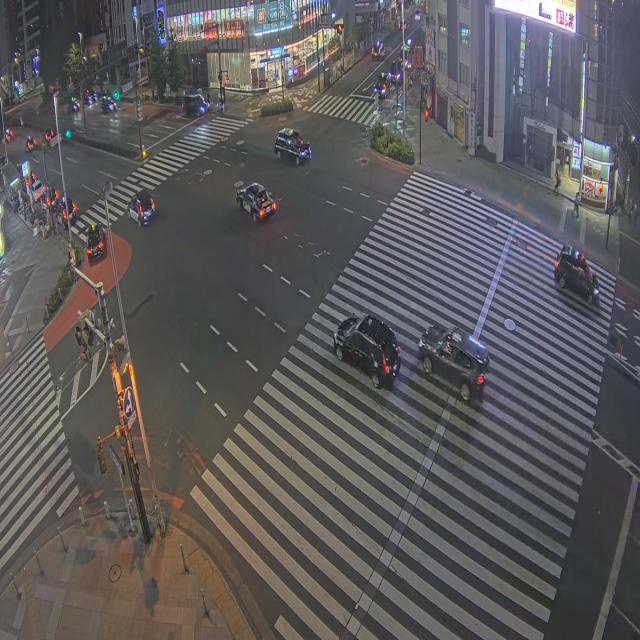car: (419, 325, 489, 404), (334, 315, 400, 388), (555, 246, 599, 305), (237, 183, 276, 221), (275, 128, 311, 164), (128, 191, 154, 226), (86, 224, 105, 262), (56, 192, 77, 225), (183, 94, 209, 116), (374, 73, 388, 99), (387, 61, 401, 85), (47, 182, 59, 206), (32, 180, 45, 201), (372, 41, 385, 60), (101, 97, 116, 112), (45, 128, 57, 146), (83, 91, 96, 105), (26, 136, 36, 152), (4, 128, 15, 142), (398, 21, 408, 30), (415, 9, 420, 21)
motorcycle: (26, 137, 35, 152)
